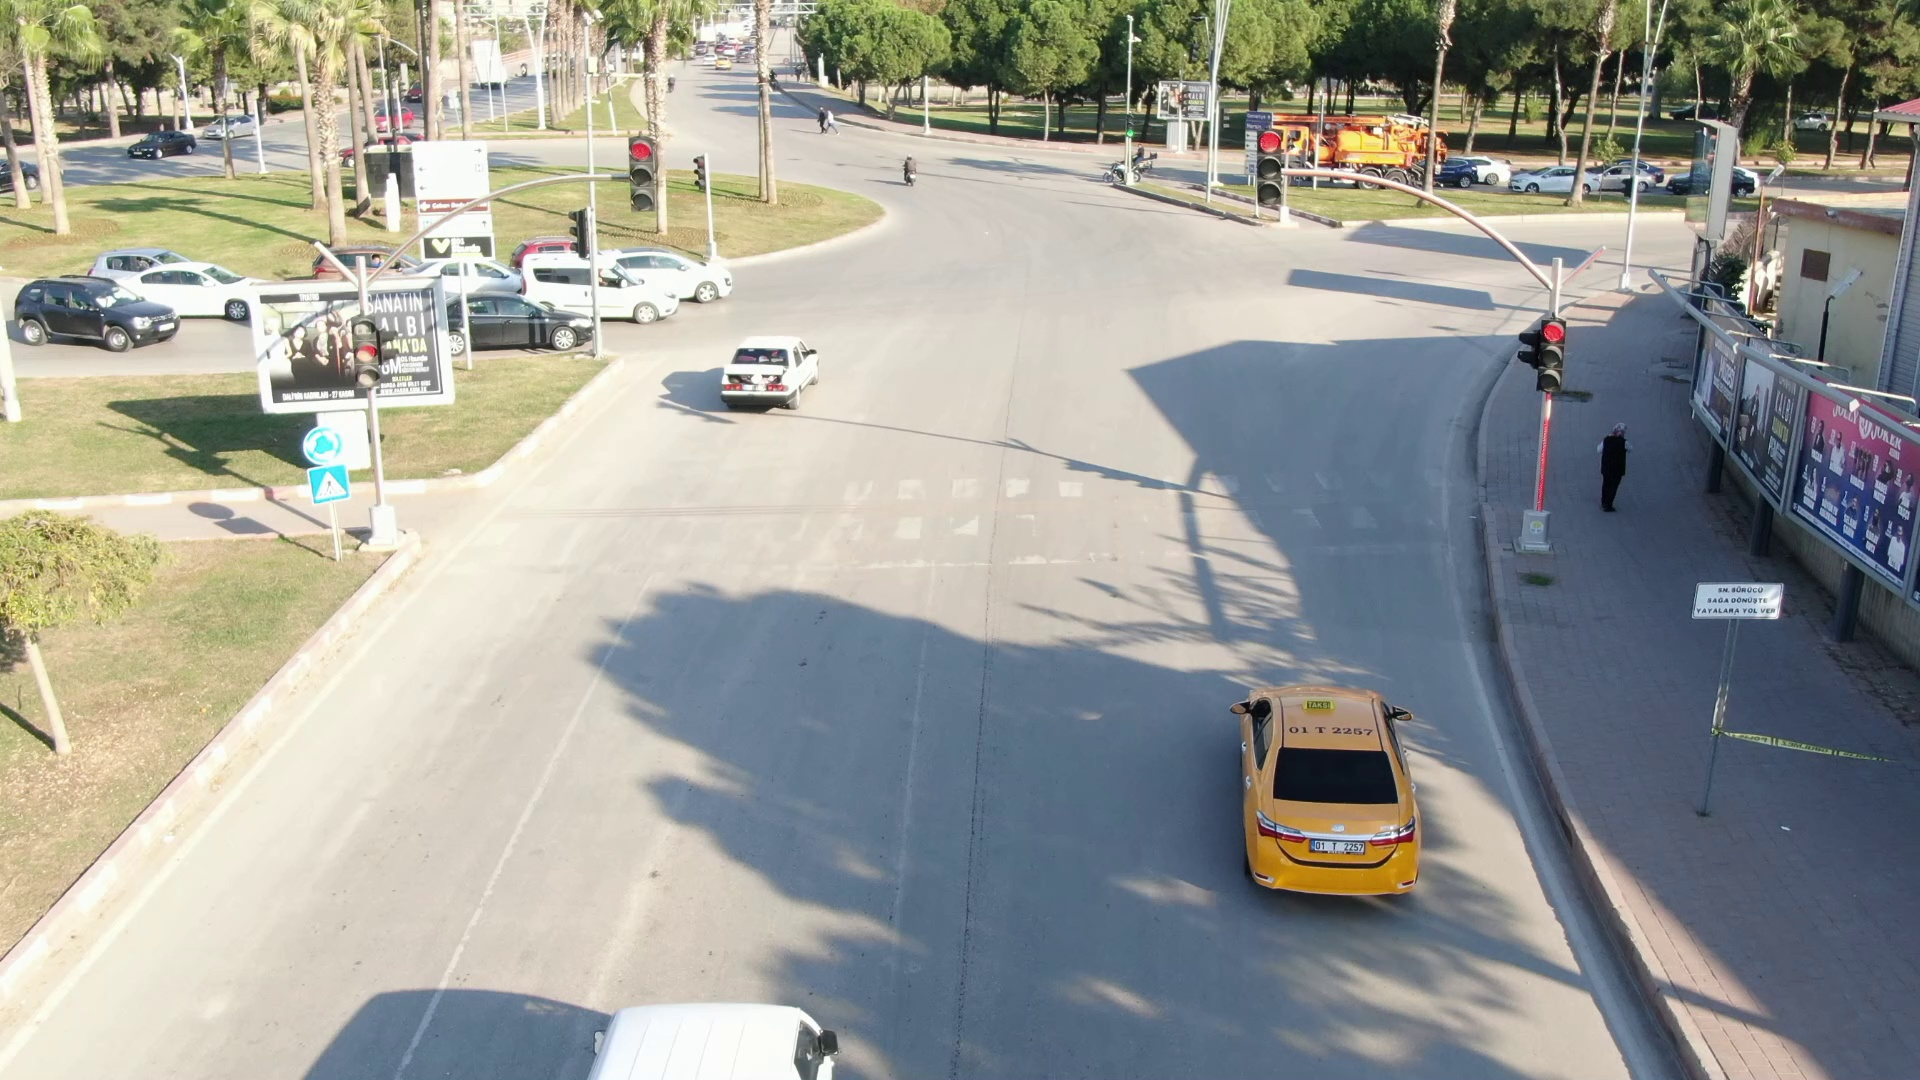car: (1227, 680, 1429, 906), (15, 255, 182, 351), (515, 241, 684, 323), (131, 243, 280, 327), (710, 333, 831, 414), (451, 286, 600, 347), (608, 237, 737, 302)
person: (1590, 406, 1637, 512), (894, 151, 925, 182)
